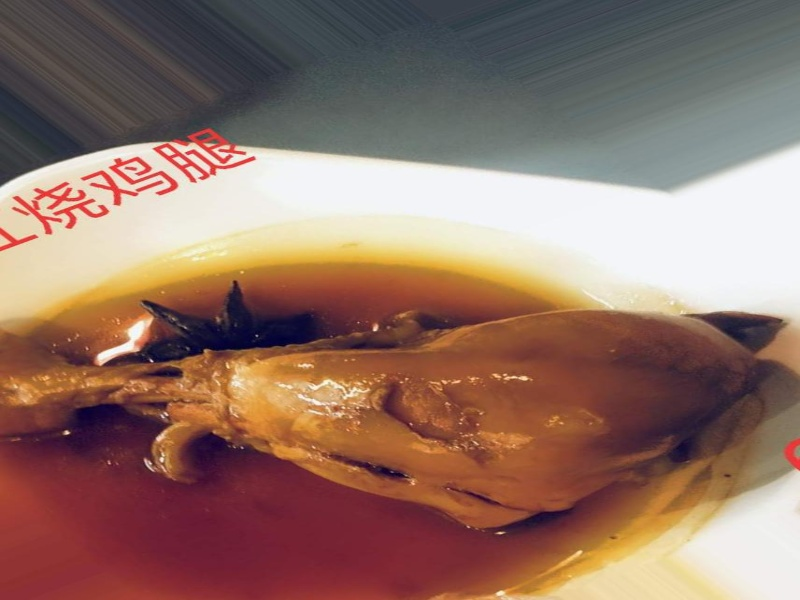chicken: (5, 252, 780, 562)
